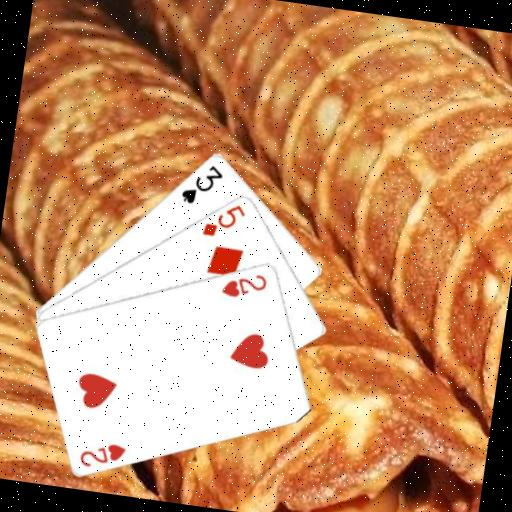2H: (76, 435, 129, 473), (218, 266, 271, 303)
3S: (177, 157, 226, 209)
5D: (199, 196, 249, 242)
